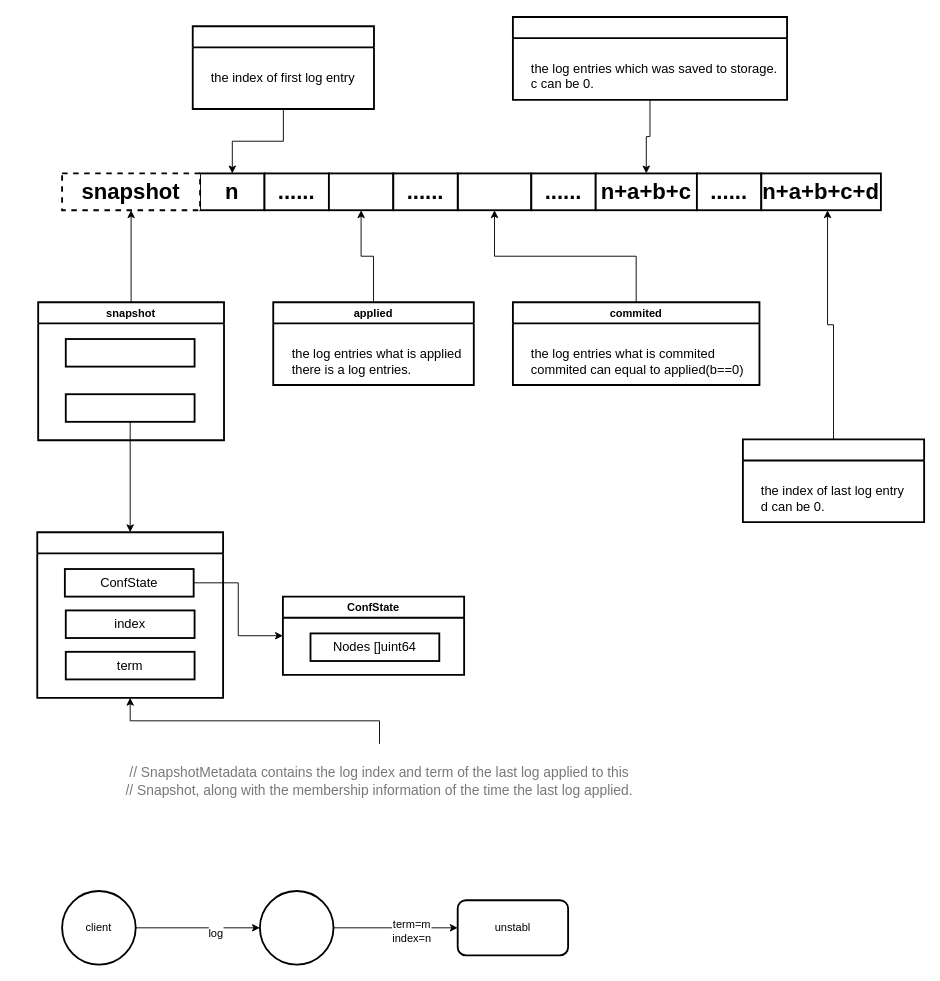
Some shapes in this 940 by 981 pixel diagram are drawn without their labels. Here are the shapes that lost their labels. From the top down, the box of each, then its label:
(191, 25, 374, 109): FirstIndex
(512, 16, 788, 100): stabled
(328, 172, 394, 211): n+a
(456, 172, 532, 211): n+a+b
(64, 338, 195, 367): data []byte
(64, 393, 195, 422): *SnapshotMetadata
(742, 438, 925, 523): LastIndex
(36, 531, 224, 698): SnapshotMetadata
(259, 890, 334, 965): raftLeader
